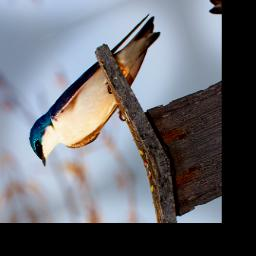Swallow: (8, 10, 185, 170)
